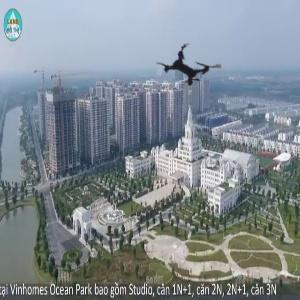drone: (141, 20, 238, 117)
